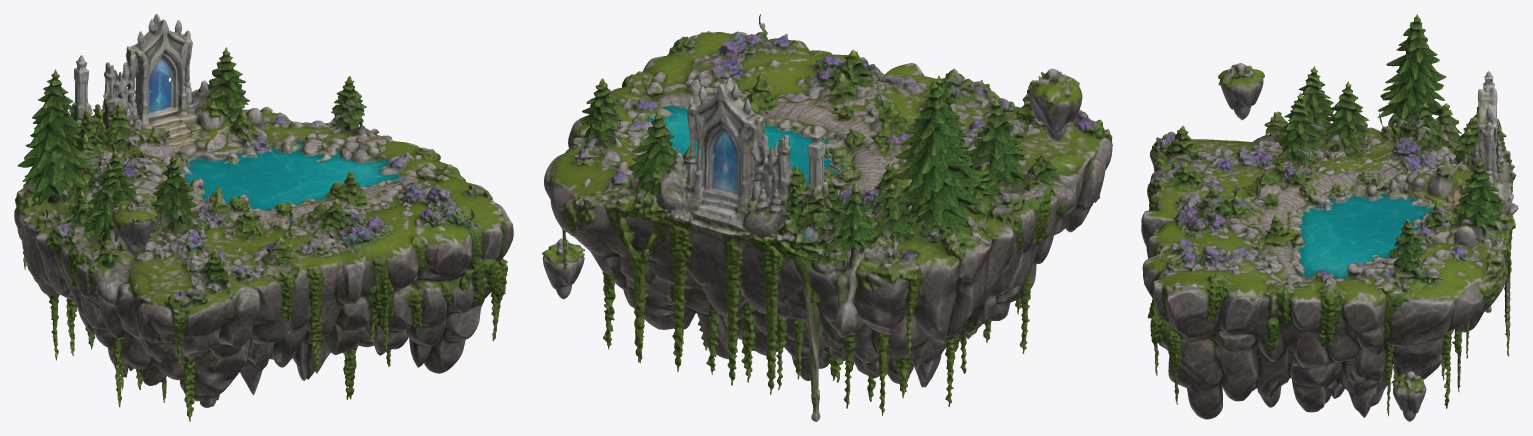
The model's file is sanctuary_meshy.glb.
3 renders of one model, left to right at view 1: azimuth 30°, elevation 25°; view 2: azimuth 150°, elevation 25°; view 3: azimuth 270°, elevation 25°, orthographic. The views are drawn at different scales.
Bounding box in the file's own units: 1.9 × 1.43 × 1.68.
1 material, 1 textured.
